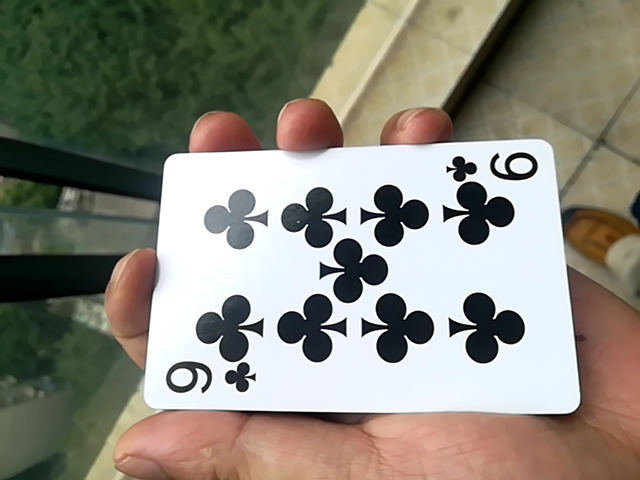mh 9: (126, 137, 579, 424)
